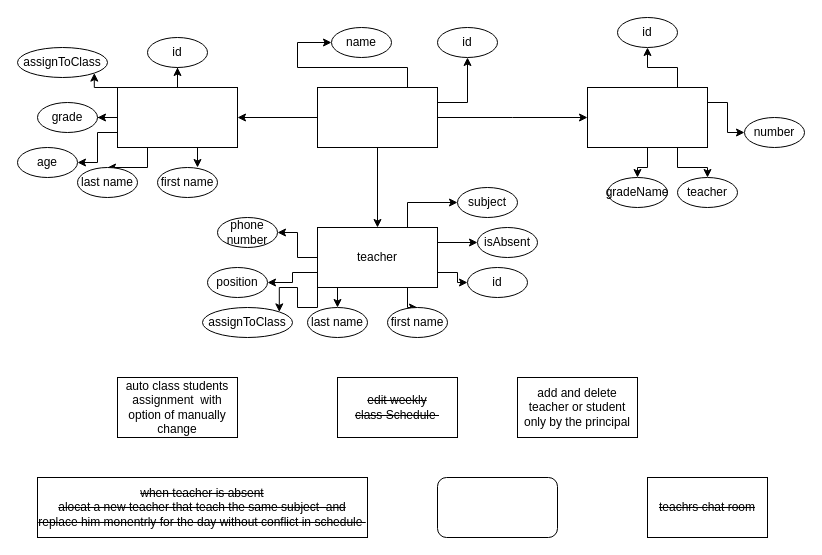
The diagram is 822 pixels wide and 555 high, and some of its shapes have lost their labels. Each missing label, with the centre of its shape:
class room: the point at 647,117
classRoom Schedule: the point at 497,507
school: the point at 377,117
student: the point at 177,117
